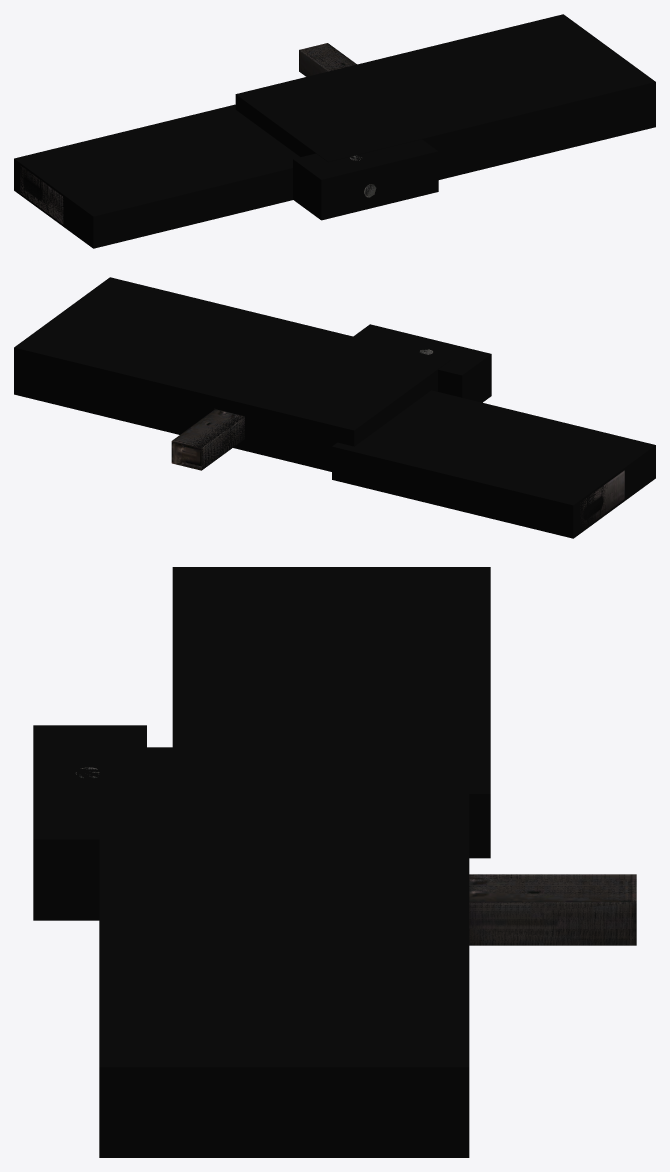
The model's file is viewmodel_mini_uzi_MP1.obj.
3 renders of one model, top to bottom at view 1: azimuth 30°, elevation 25°; view 2: azimuth 150°, elevation 25°; view 3: azimuth 270°, elevation 25°, orthographic. The views are drawn at different scales.
Visible parts, largest first — view 1: j_gun, j_support_chin_arm, tag_acog, Group0, Group3, tag_clip; view 2: j_gun, j_support_chin_arm, tag_acog, Group0, tag_clip, Group3; view 3: j_gun, j_support_chin_arm, tag_acog, Group0, tag_clip.
Boxes of the visible parts, x1,y1,x2,y2 form: j_gun: (235,14,655,179); j_support_chin_arm: (14,104,300,248); tag_acog: (293,139,438,220); Group0: (299,43,356,76); Group3: (20,166,63,224); tag_clip: (300,43,356,70); j_gun: (14,277,449,471); j_support_chin_arm: (332,390,655,538); tag_acog: (353,324,491,402); Group0: (171,409,244,470); tag_clip: (186,414,244,469); Group3: (580,470,624,528); j_gun: (99,747,469,1157); j_support_chin_arm: (172,567,490,858); tag_acog: (33,725,146,920); Group0: (469,874,636,945); tag_clip: (469,874,636,945).
Size of what is drawn, in the model's own units: 25.49 by 2.13 by 12.24.
